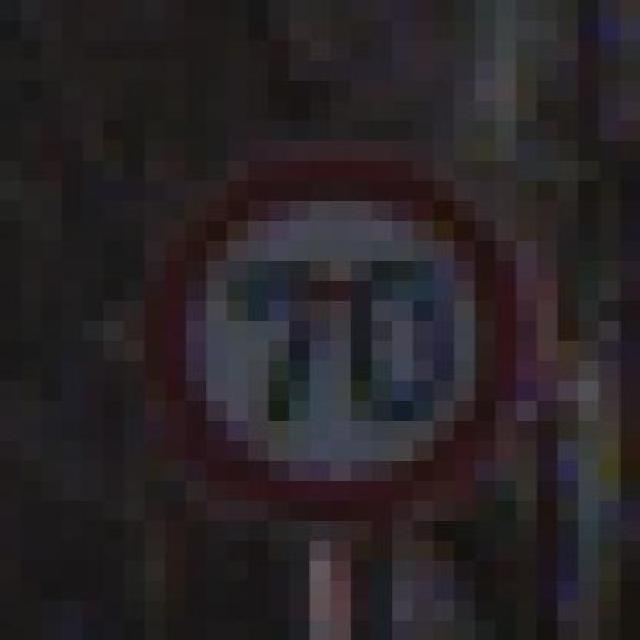forb_speed_over_70: (151, 159, 514, 516)
